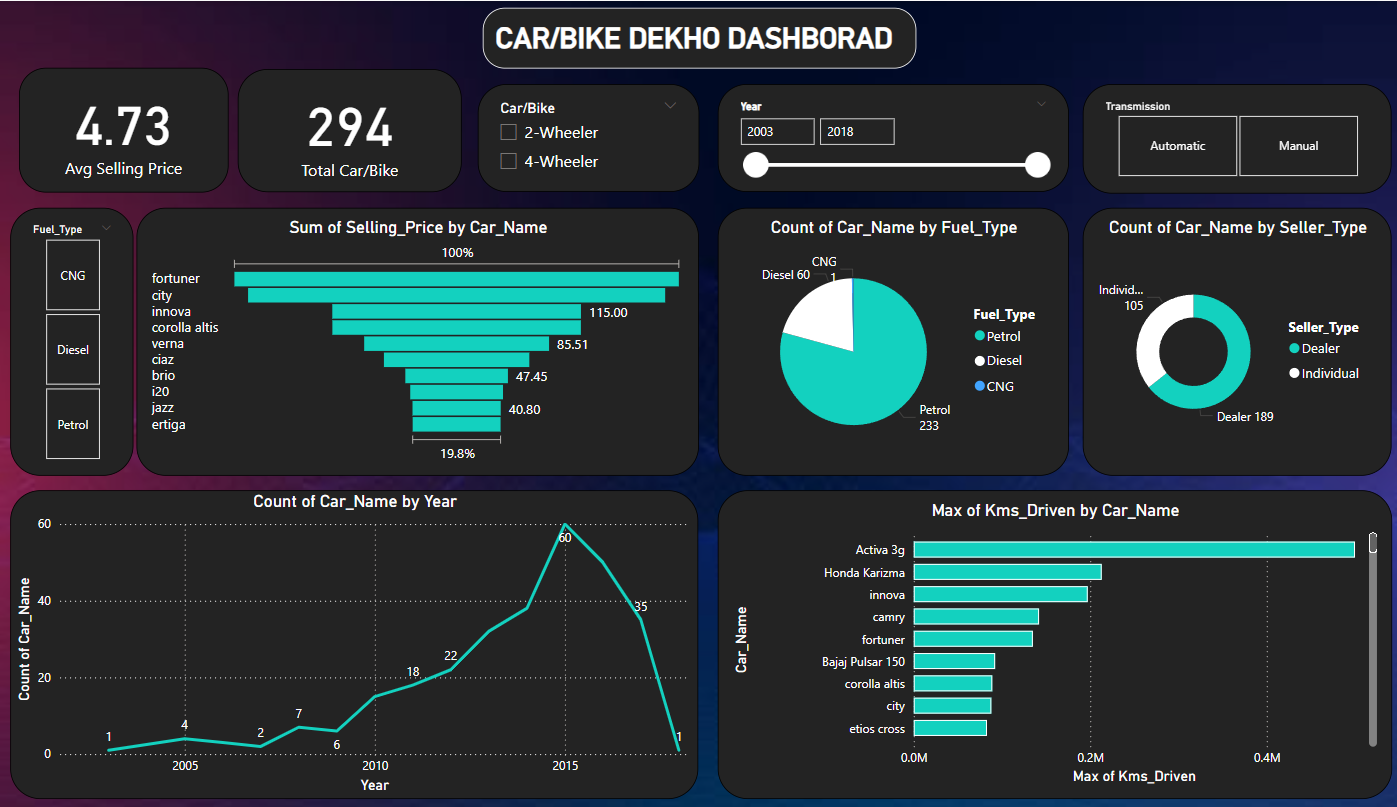

Layout of this report page (visuals, bound fields, positions):
{"tool":"powerbi","page":{"name":"Dashborad","canvas":[1400,810],"ordinal":1},"visuals":[{"type":"donutChart","fields":{"Category":["cardekho_data.Seller_Type"],"Y":["CountNonNull(cardekho_data.Car_Name)"]},"box":[1083.6,208.6,309,268.4],"z":0},{"type":"pieChart","fields":{"Category":["cardekho_data.Fuel_Type"],"Y":["CountNonNull(cardekho_data.Car_Name)"]},"box":[718.6,208.6,351,268.4],"z":1000},{"type":"slicer","fields":{"Values":["cardekho_data.Car/Bike"]},"box":[478.2,85.2,221.3,108.1],"z":2000},{"type":"slicer","fields":{"Values":["cardekho_data.Fuel_Type"]},"box":[11.4,208.6,123.4,268.4],"z":3000},{"type":"slicer","fields":{"Values":["cardekho_data.Year"]},"box":[718.6,85.2,351,108.1],"z":4000},{"type":"slicer","fields":{"Values":["cardekho_data.Transmission"]},"box":[1083.6,85.2,309,109.4],"z":5000},{"type":"lineChart","fields":{"Category":["cardekho_data.Year"],"Y":["CountNonNull(cardekho_data.Car_Name)"]},"box":[11.4,490.9,688,309],"z":6000},{"type":"barChart","fields":{"Category":["cardekho_data.Car_Name"],"Y":["Max(cardekho_data.Kms_Driven)"]},"box":[718.6,490.9,674.1,309],"z":7000},{"type":"funnel","fields":{"Category":["cardekho_data.Car_Name"],"Y":["Sum(cardekho_data.Selling_Price)"]},"box":[137.4,208.6,562.1,268.4],"z":8000},{"type":"card","fields":{"Values":["cardekho_data.Avg Car Selling Price"]},"box":[20.3,68.7,209.8,124.6],"z":9000},{"type":"card","fields":{"Values":["cardekho_data.Total Car/Bike"]},"box":[239.1,69.9,223.8,123.4],"z":10000},{"type":"textbox","box":[483.3,8.9,433.7,61],"z":11000}]}

Visuals, with their boxes in screenshot pixels (x1, y1, x2, y2), scaled from the page's 1400x810 canvas onto the 1397x807 screenshot:
donutChart - cardekho_data.Seller_Type x CountNonNull(cardekho_data.Car_Name): (1081,208,1390,475)
pieChart - cardekho_data.Fuel_Type x CountNonNull(cardekho_data.Car_Name): (717,208,1067,475)
slicer - cardekho_data.Car/Bike: (477,85,698,193)
slicer - cardekho_data.Fuel_Type: (11,208,135,475)
slicer - cardekho_data.Year: (717,85,1067,193)
slicer - cardekho_data.Transmission: (1081,85,1390,194)
lineChart - cardekho_data.Year x CountNonNull(cardekho_data.Car_Name): (11,489,698,797)
barChart - cardekho_data.Car_Name x Max(cardekho_data.Kms_Driven): (717,489,1390,797)
funnel - cardekho_data.Car_Name x Sum(cardekho_data.Selling_Price): (137,208,698,475)
card - cardekho_data.Avg Car Selling Price: (20,68,230,193)
card - cardekho_data.Total Car/Bike: (239,70,462,193)
textbox: (482,9,915,70)
